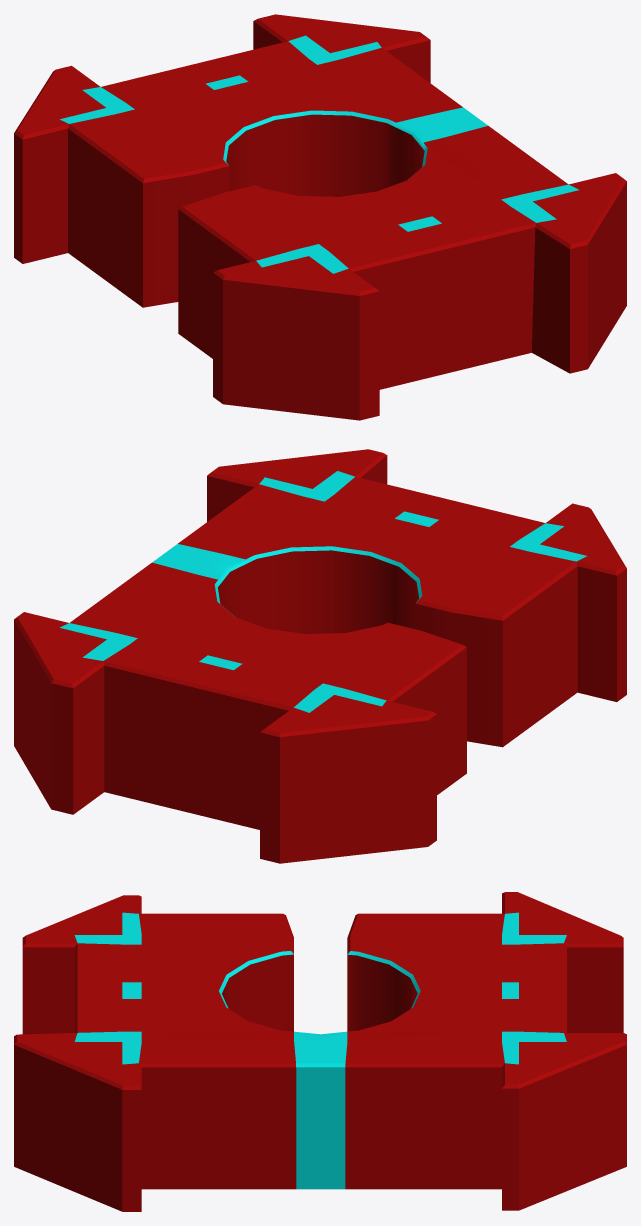
Rendered from GJ_Envrio_Kit_Buildings_HL_23-07-2019_v12.fbx.
The picture shows the model from 3 angles, top to bottom: view 1: azimuth 30°, elevation 25°; view 2: azimuth 150°, elevation 25°; view 3: azimuth 270°, elevation 25°; orthographic projection. The views are drawn at different scales.
Parts seen in each view (by area): view 1: Building_3_Flats; view 2: Building_3_Flats; view 3: Building_3_Flats.
Boxes of the visible parts, box(x1,y1,x2,y2) form: Building_3_Flats: box(14, 14, 626, 420); Building_3_Flats: box(14, 449, 626, 863); Building_3_Flats: box(14, 892, 626, 1211).
Bounding box in the file's own units: 1248 × 370 × 1647.
